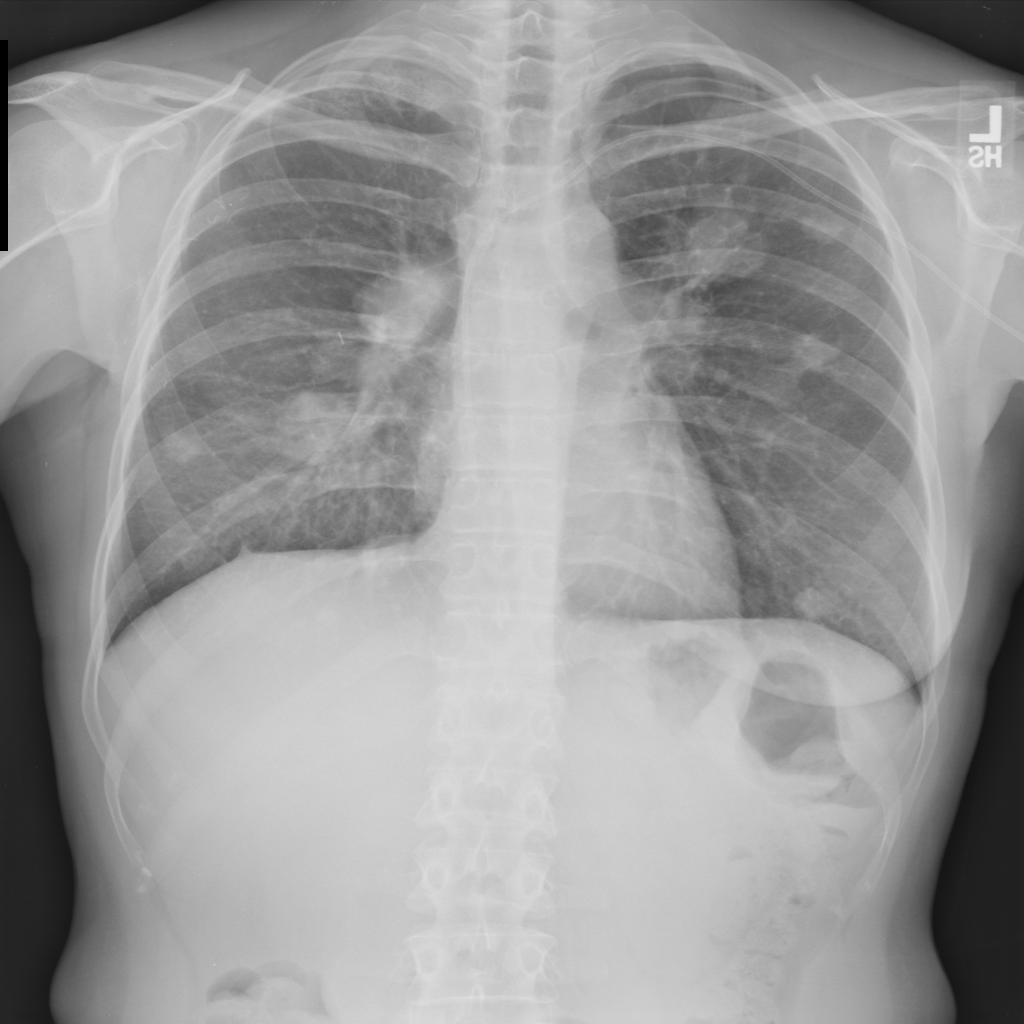nodule: (339, 250, 461, 361), (259, 375, 383, 480), (656, 191, 783, 290), (143, 411, 223, 474), (776, 319, 856, 381), (783, 195, 867, 252), (786, 579, 845, 627), (855, 516, 911, 566), (729, 574, 781, 620)
